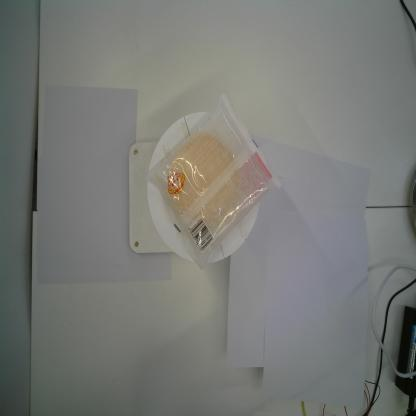Dessert: (140, 86, 284, 274)
